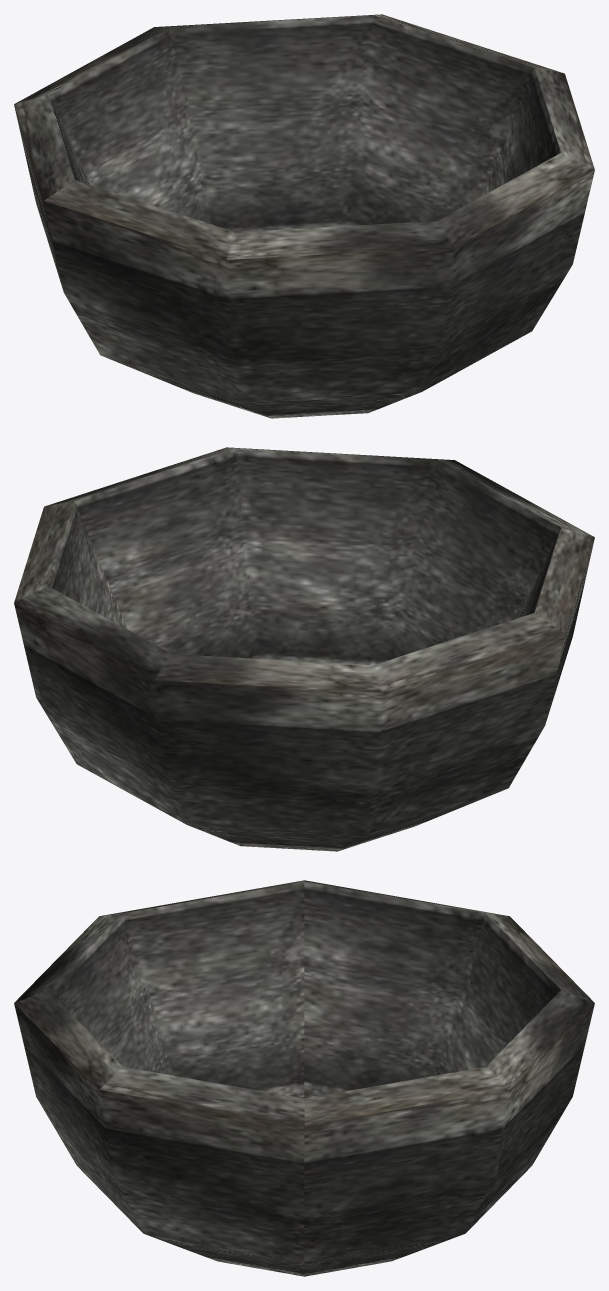
The model's file is pir_m_hnd_tol_mortar.fbx.
3 views of the same model, one above another, from view 1: azimuth 30°, elevation 25°; view 2: azimuth 150°, elevation 25°; view 3: azimuth 270°, elevation 25° (orthographic). The views are drawn at different scales.
Visible parts, largest first — view 1: lod_high; view 2: lod_high; view 3: lod_high.
Boxes of the visible parts, <box> form: lod_high: <box>14,14,594,418</box>; lod_high: <box>14,447,594,851</box>; lod_high: <box>14,880,594,1276</box>.
Bounding box in the file's own units: 77.6 × 34.55 × 77.6.
1 material, 1 textured.
